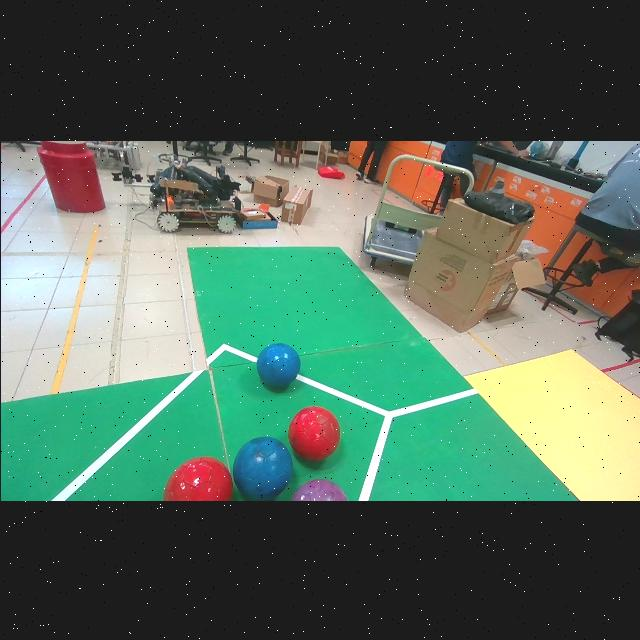B: (232, 436, 291, 500), (256, 343, 299, 387)
P: (289, 479, 346, 500)
R: (162, 455, 232, 500), (288, 405, 339, 460)
